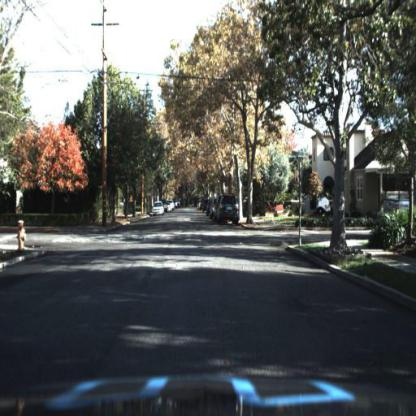car: (295, 186, 339, 222), (215, 192, 240, 228), (152, 202, 166, 219)
